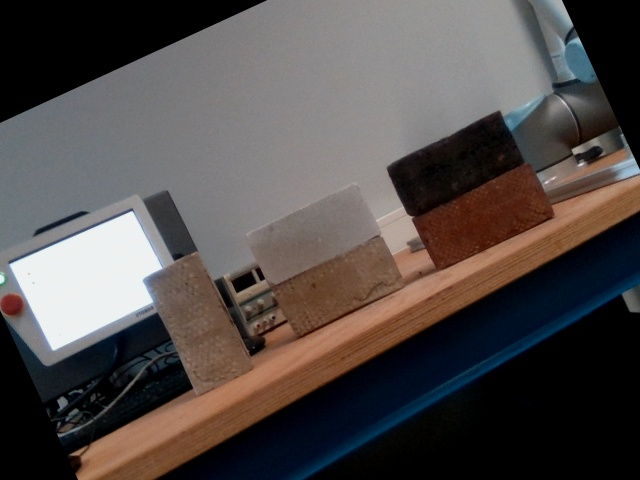brick: (415, 167, 553, 269), (146, 257, 246, 392), (248, 185, 378, 284), (390, 113, 521, 211), (277, 240, 401, 333)
